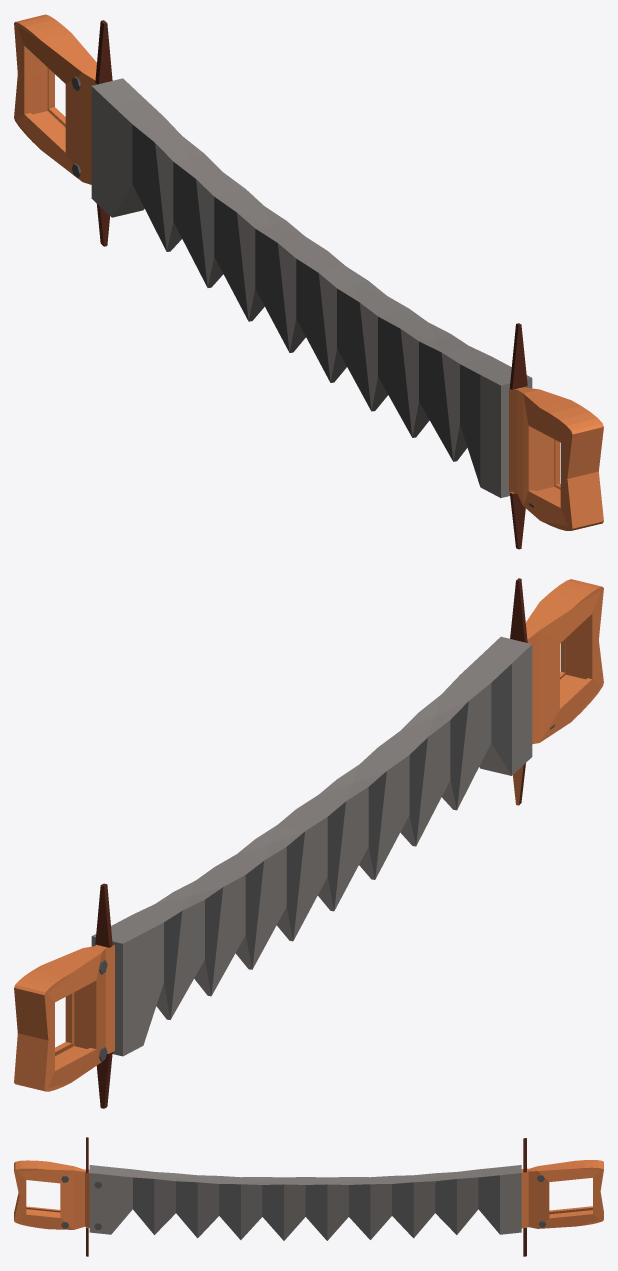
The model's file is testere.fbx.
3 views of the same model, one above another, from view 1: azimuth 30°, elevation 25°; view 2: azimuth 150°, elevation 25°; view 3: azimuth 270°, elevation 25° (orthographic). The views are drawn at different scales.
Visible parts, largest first — view 1: Cube; view 2: Cube; view 3: Cube.
Boxes of the visible parts, bbox=[...] form: Cube: bbox=[14, 14, 603, 549]; Cube: bbox=[14, 578, 603, 1108]; Cube: bbox=[14, 1137, 603, 1256].
Size of the model in its own units: 63.57 by 397 by 1788.
